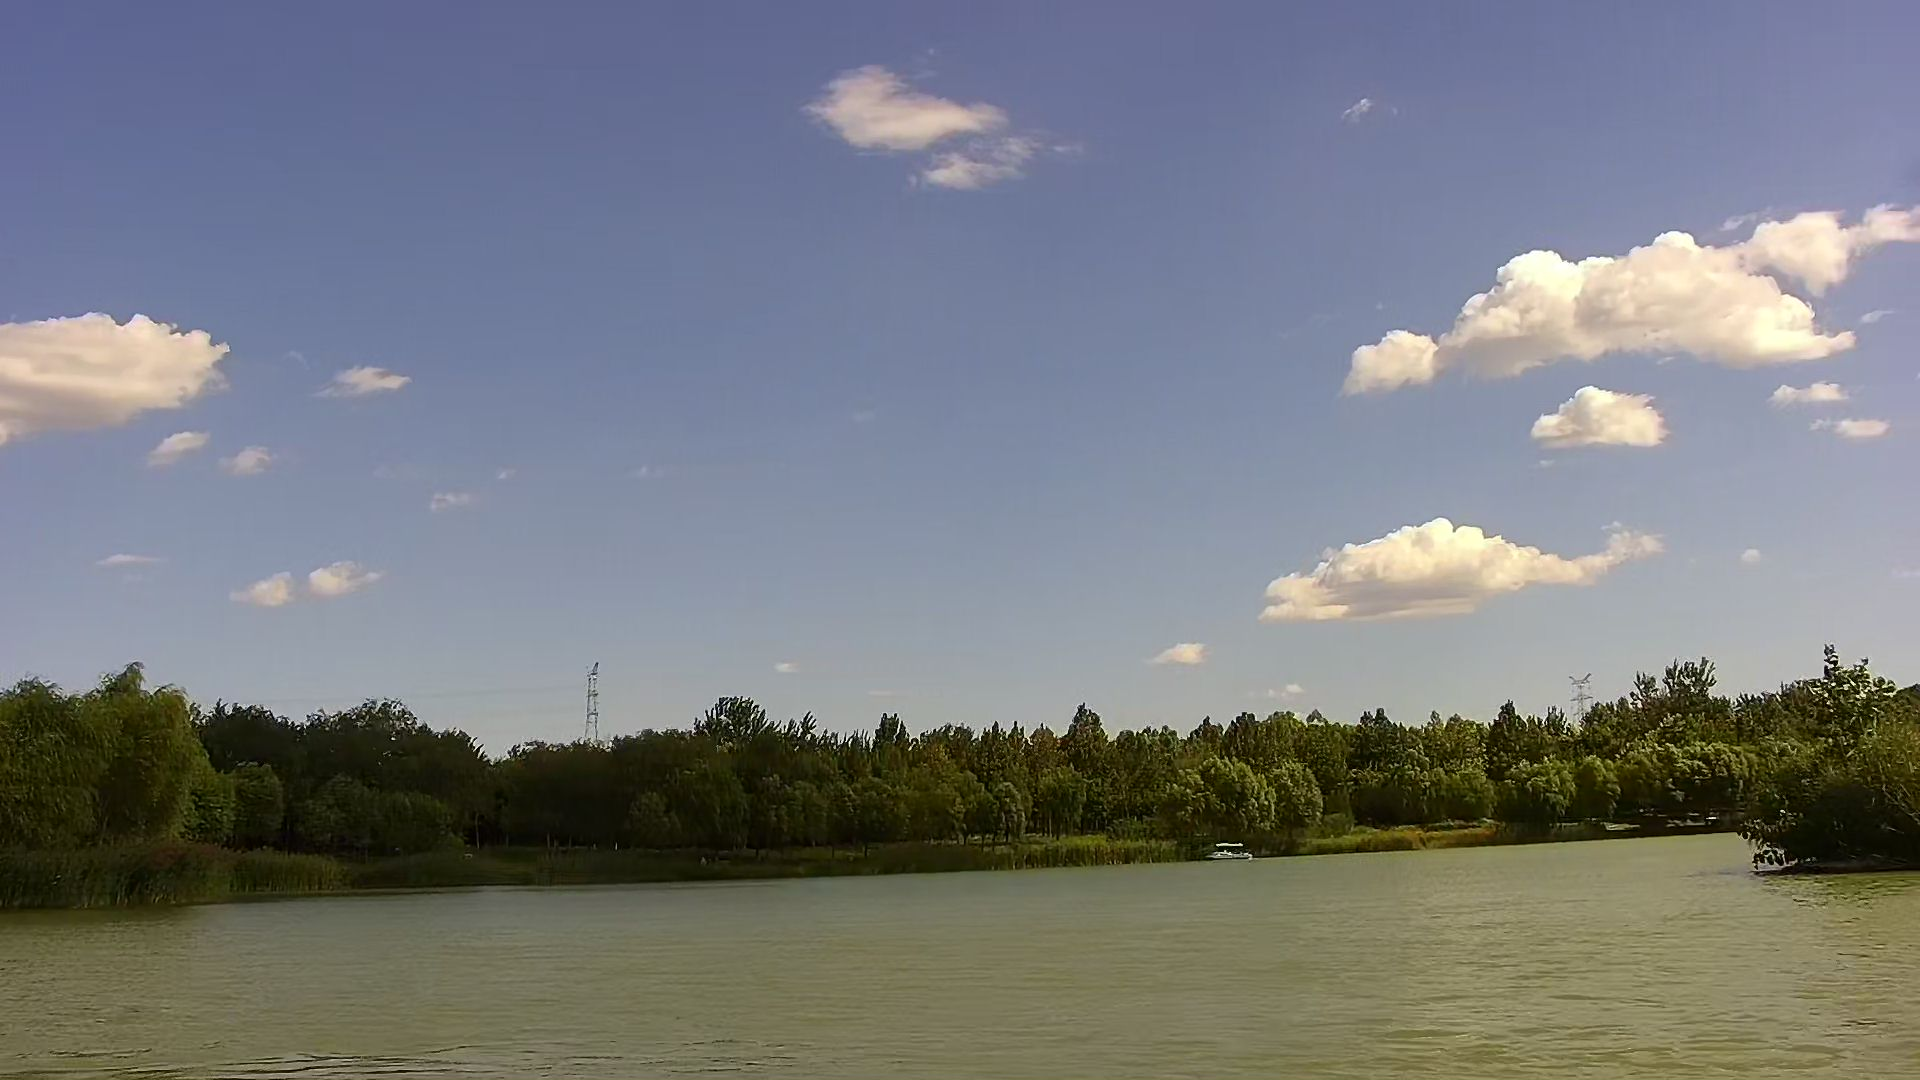boat: (1207, 839, 1253, 862)
